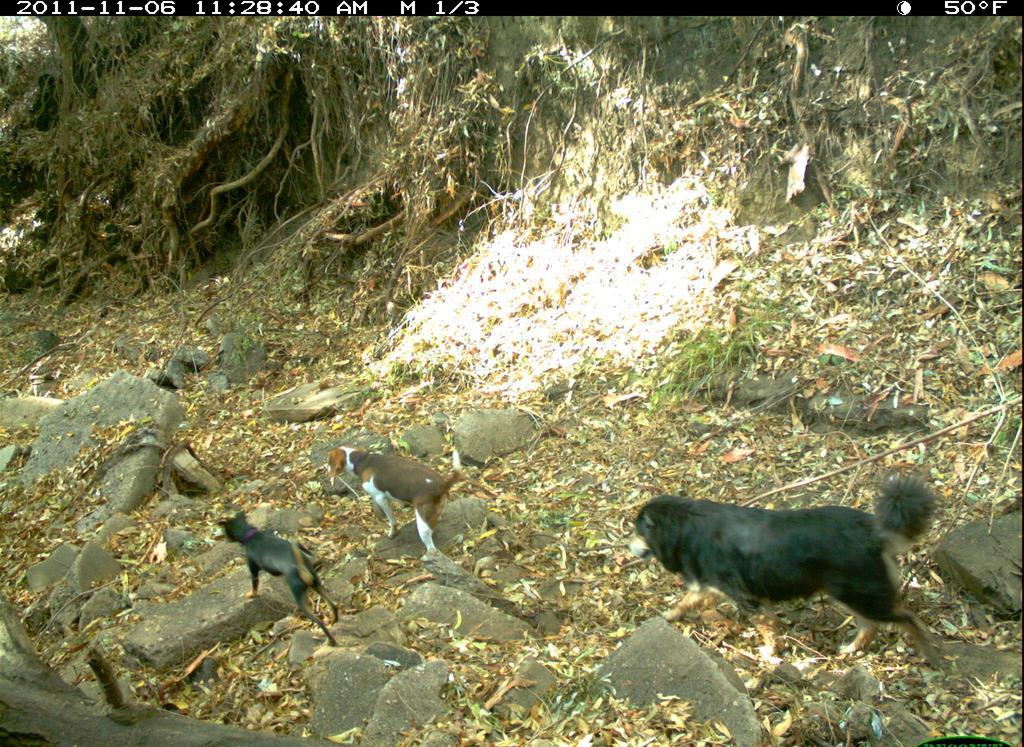dog: (623, 468, 950, 692), (323, 428, 466, 566), (218, 509, 342, 648)
